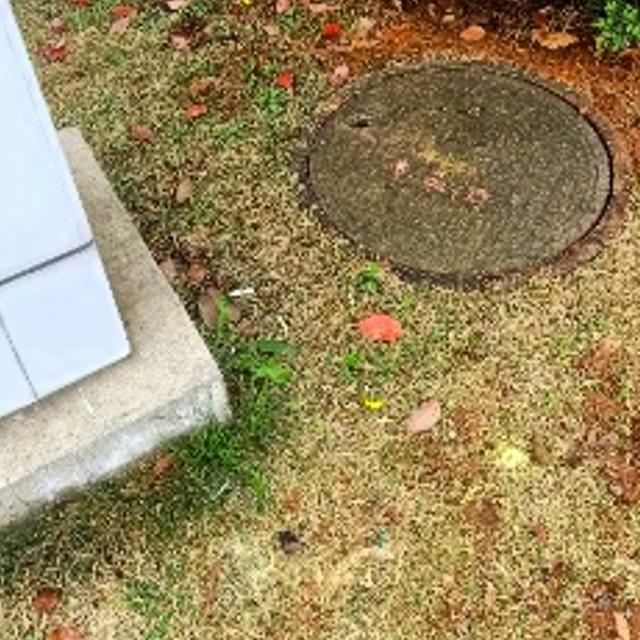good: (296, 54, 633, 289)
